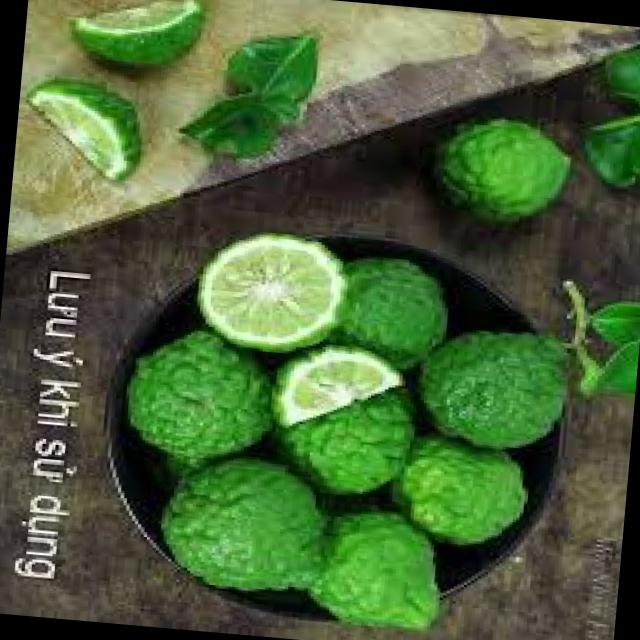Chuc: (155, 449, 334, 597), (120, 322, 282, 466), (412, 320, 578, 454), (192, 224, 354, 358), (304, 502, 452, 632), (273, 377, 420, 500), (428, 111, 576, 229), (394, 430, 534, 550), (330, 250, 454, 372), (268, 338, 407, 438), (22, 75, 148, 184), (67, 0, 209, 72)
